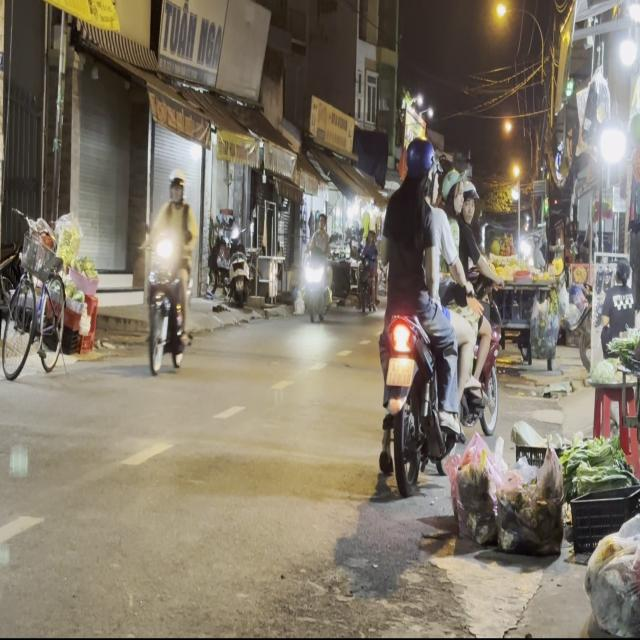helmet: (400, 135, 432, 193), (439, 166, 463, 218), (460, 178, 479, 222), (167, 166, 184, 201)
licenseplate: (371, 128, 502, 496), (141, 166, 196, 374)
nohelmet: (386, 356, 413, 384)
